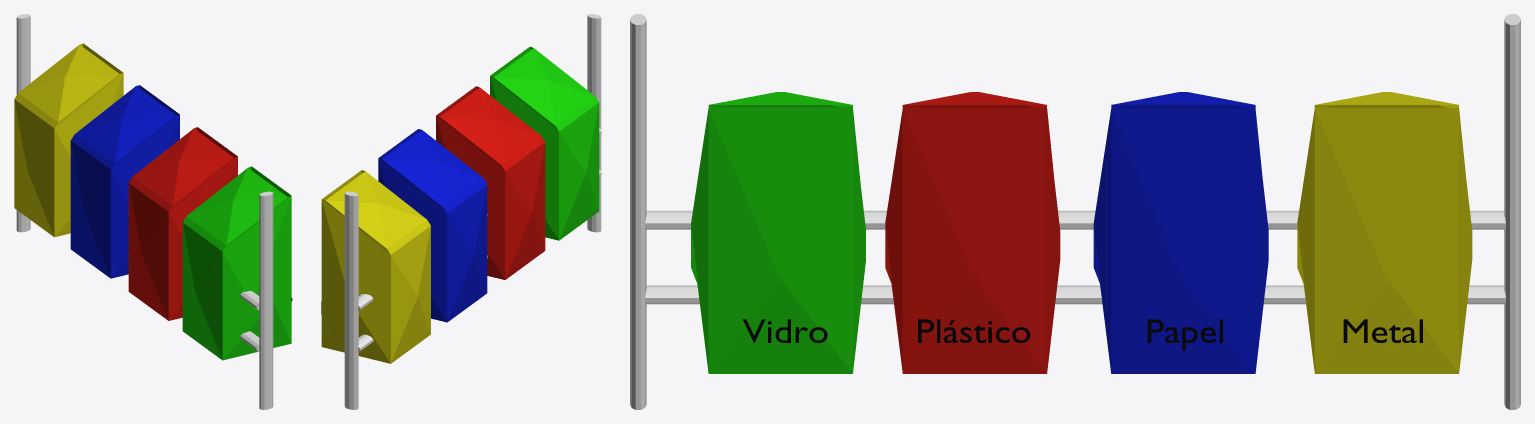
The model's file is latasdelixoreciclavel.fbx.
3 renders of one model, left to right at view 1: azimuth 30°, elevation 25°; view 2: azimuth 150°, elevation 25°; view 3: azimuth 270°, elevation 25°, orthographic. The views are drawn at different scales.
Visible parts, largest first — view 1: Cube.003, Cube.001, Cube.002, Cube, Cylinder.000, Cylinder.001; view 2: Cube.002, Cube, Cube.001, Cube.003, Cylinder.001, Cylinder.000; view 3: Cube.003, Cube.001, Cube.002, Cube, Cylinder.001, Cylinder.000, Cylinder.002, Cylinder.003, texto.001, texto.002, texto.003.
Part boxes in pixels (box(x1,y1,x2,y2)): Cube.003: box(182, 166, 291, 360); Cube.001: box(70, 85, 179, 278); Cube.002: box(14, 43, 123, 237); Cube: box(128, 127, 237, 320); Cylinder.000: box(259, 191, 273, 409); Cylinder.001: box(16, 14, 30, 232); Cube.002: box(321, 170, 430, 363); Cube: box(436, 86, 545, 279); Cube.001: box(378, 129, 487, 322); Cube.003: box(490, 46, 599, 240); Cylinder.001: box(344, 191, 358, 409); Cylinder.000: box(587, 14, 601, 232); Cube.003: box(691, 92, 865, 373); Cube.001: box(1093, 92, 1268, 373); Cube.002: box(1297, 92, 1472, 373); Cube: box(885, 92, 1060, 373); Cylinder.001: box(1504, 14, 1520, 409); Cylinder.000: box(630, 14, 646, 409); Cylinder.002: box(645, 285, 1505, 304); Cylinder.003: box(645, 210, 1505, 229); texto.001: box(918, 319, 1030, 342); texto.002: box(1147, 319, 1222, 350); texto.003: box(1343, 319, 1422, 342).
Bounding box in the file's own units: 202 × 477 × 1001.
